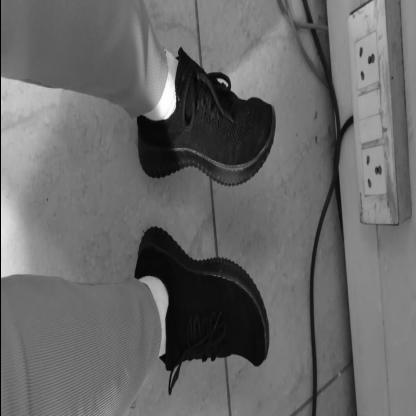ankle: (164, 124, 167, 130), (167, 286, 169, 292)
heel: (141, 127, 143, 133), (137, 268, 139, 272)
left_foot: (138, 60, 276, 188)
pinky: (257, 103, 259, 107), (250, 356, 252, 360)
right_foot: (136, 227, 270, 368)
toe: (256, 151, 258, 157), (256, 311, 258, 316)
